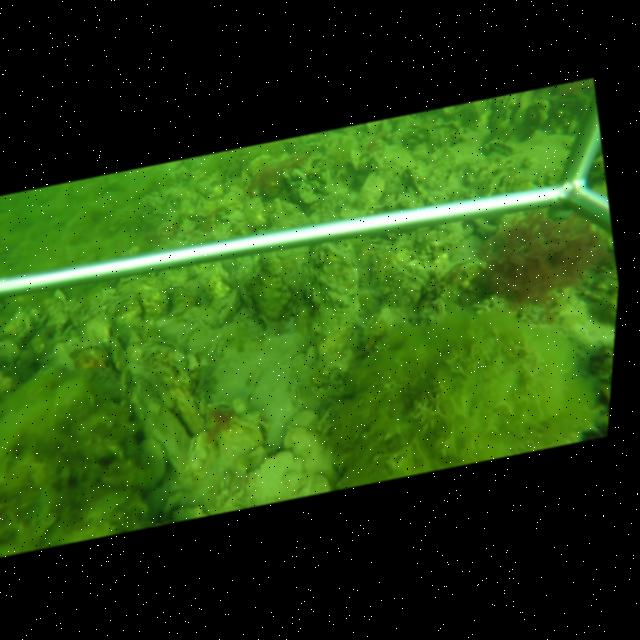Oyster-Closed: (308, 241, 360, 388), (141, 339, 208, 432), (214, 289, 241, 326), (289, 263, 309, 312), (229, 257, 258, 290), (243, 194, 270, 229), (170, 285, 197, 307), (474, 103, 491, 128), (433, 298, 446, 321)
Oyster-Indeterminate: (121, 276, 169, 317), (253, 273, 291, 320), (353, 172, 386, 210)
Oyster-Open: (482, 140, 515, 155)
